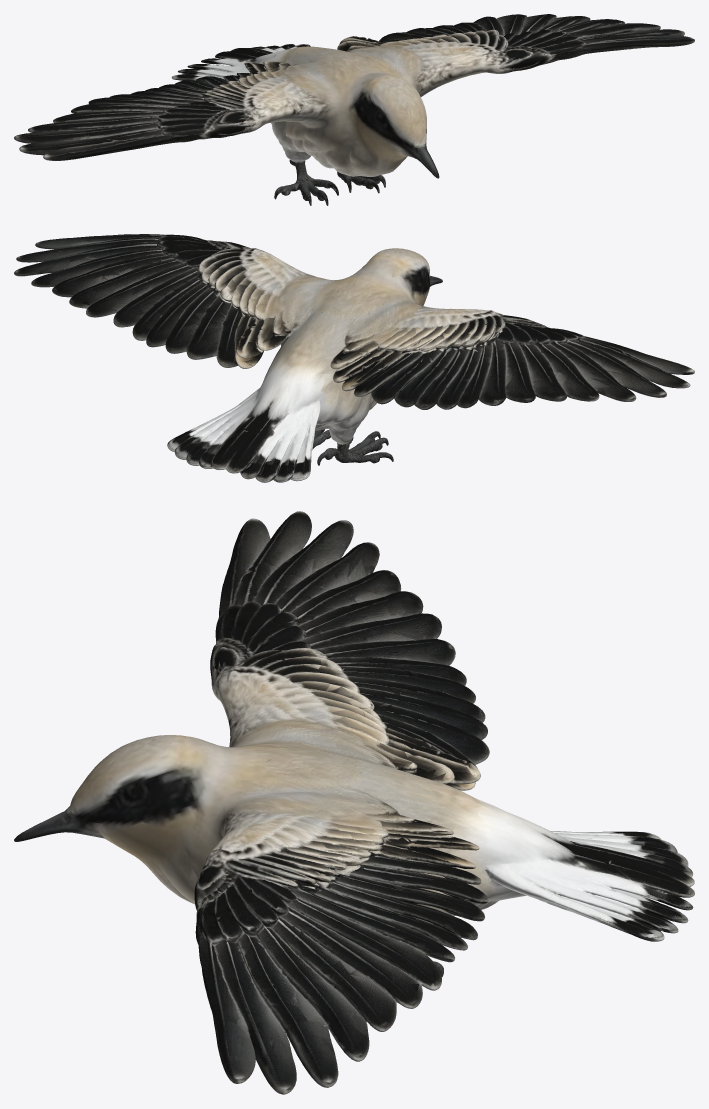
The model's file is Oenanthe_hispanica.glb.
3 renders of one model, top to bottom at view 1: azimuth 30°, elevation 25°; view 2: azimuth 150°, elevation 25°; view 3: azimuth 270°, elevation 25°, orthographic. The views are drawn at different scales.
Visible parts, largest first — view 1: orient; view 2: orient; view 3: orient.
Part boxes in pixels (box(x1,y1,x2,y2)): orient: box(14, 14, 694, 205); orient: box(14, 234, 694, 482); orient: box(14, 511, 694, 1094).
Size of the model in its own units: 0.5 by 0.1084 by 0.2787.
1 material, 1 textured.
